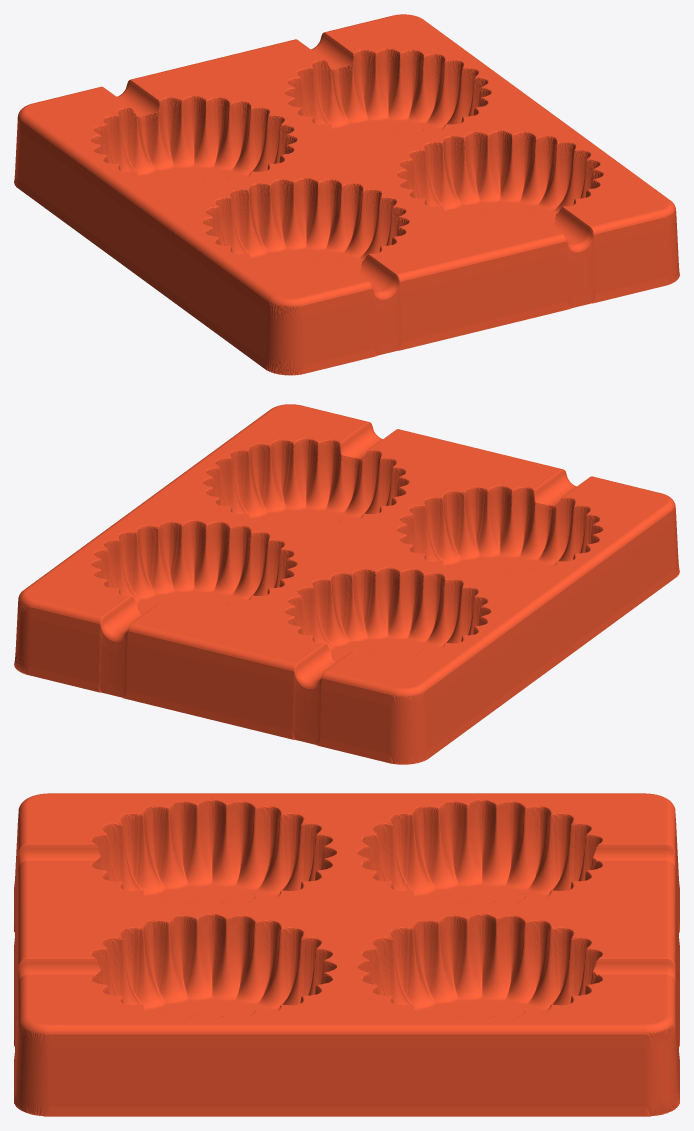
Rendered from mold.glb.
3 renders of one model, top to bottom at view 1: azimuth 30°, elevation 25°; view 2: azimuth 150°, elevation 25°; view 3: azimuth 270°, elevation 25°, orthographic. The views are drawn at different scales.
Parts seen in each view (by area): view 1: geometry_0; view 2: geometry_0; view 3: geometry_0.
Part boxes in pixels (x1=…): geometry_0: x1=14, y1=14, x2=679, y2=375; geometry_0: x1=14, y1=404, x2=679, y2=764; geometry_0: x1=14, y1=793, x2=679, y2=1116.
Bounding box in the file's own units: 0.1468 × 0.0245 × 0.171.
